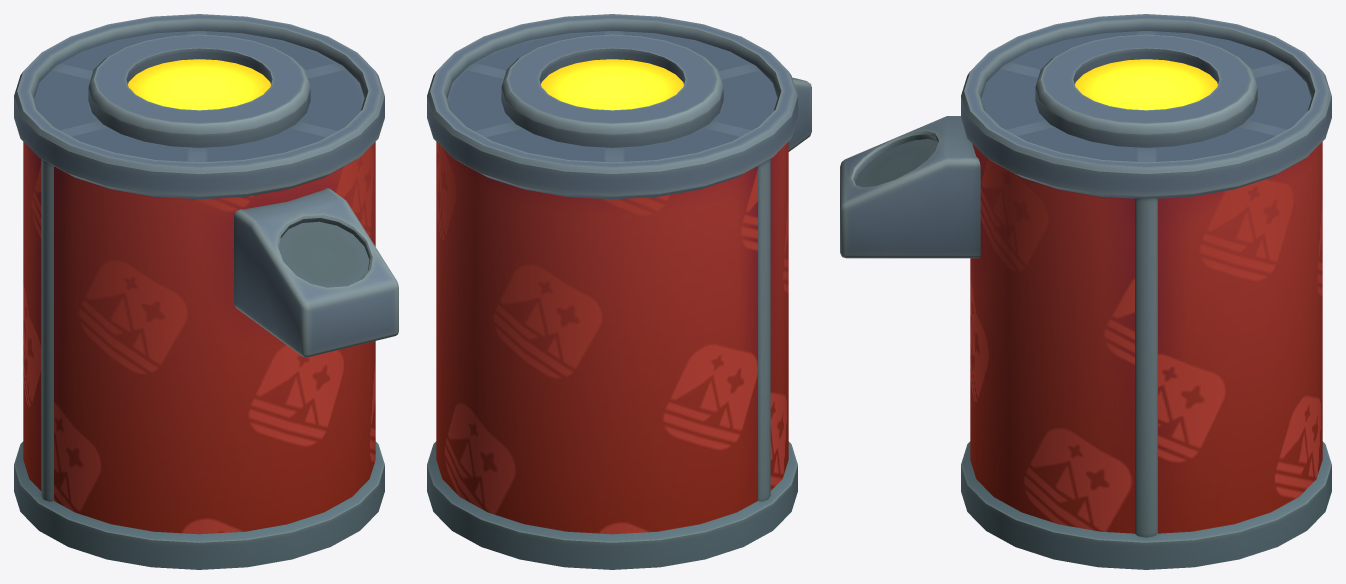
The model's file is Dispenser.glb.
The picture shows the model from 3 angles, left to right: view 1: azimuth 30°, elevation 25°; view 2: azimuth 150°, elevation 25°; view 3: azimuth 270°, elevation 25°; orthographic projection.
Parts seen in each view (by area): view 1: Dispenser; view 2: Dispenser; view 3: Dispenser.
Boxes of the visible parts, x1=… form: Dispenser: x1=14, y1=14, x2=398, y2=569; Dispenser: x1=427, y1=14, x2=811, y2=569; Dispenser: x1=840, y1=14, x2=1331, y2=569.
Bounding box in the file's own units: 0.9774 × 1.2 × 1.3.
Materials: 1 (1 with a texture image).
